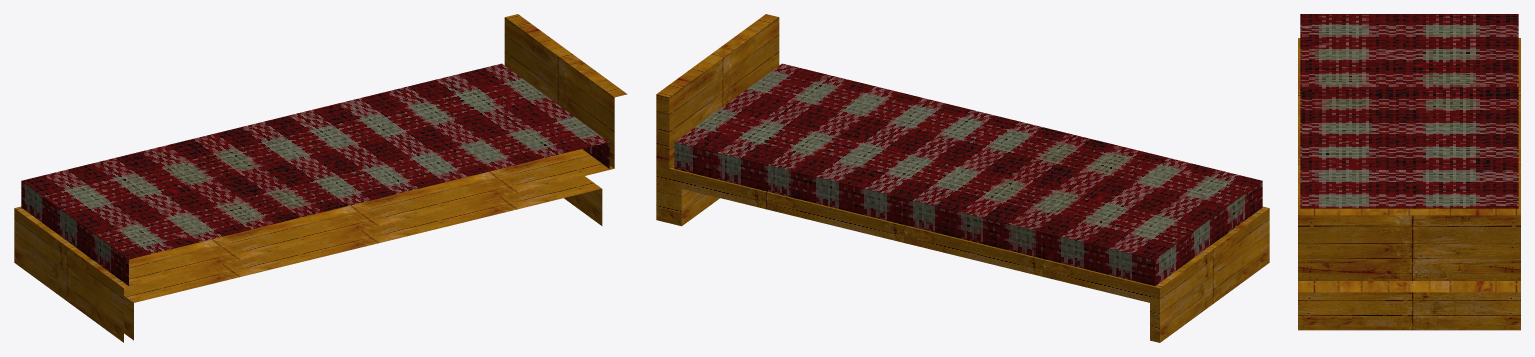
Rendered from bad.glb.
3 views of the same model, side by side, from view 1: azimuth 30°, elevation 25°; view 2: azimuth 150°, elevation 25°; view 3: azimuth 270°, elevation 25° (orthographic).
Visible parts, largest first — view 1: bed0, bed1; view 2: bed0, bed1; view 3: bed0, bed1.
Boxes of the visible parts, <box> form: bed0: <box>21,63,609,285</box>; bed1: <box>14,14,627,342</box>; bed0: <box>674,63,1262,285</box>; bed1: <box>656,14,1269,342</box>; bed0: <box>1300,14,1518,208</box>; bed1: <box>1298,38,1520,330</box>.
Size of the model in its own units: 3.15 by 0.7518 by 1.19.
Materials: 2 (2 with a texture image).
